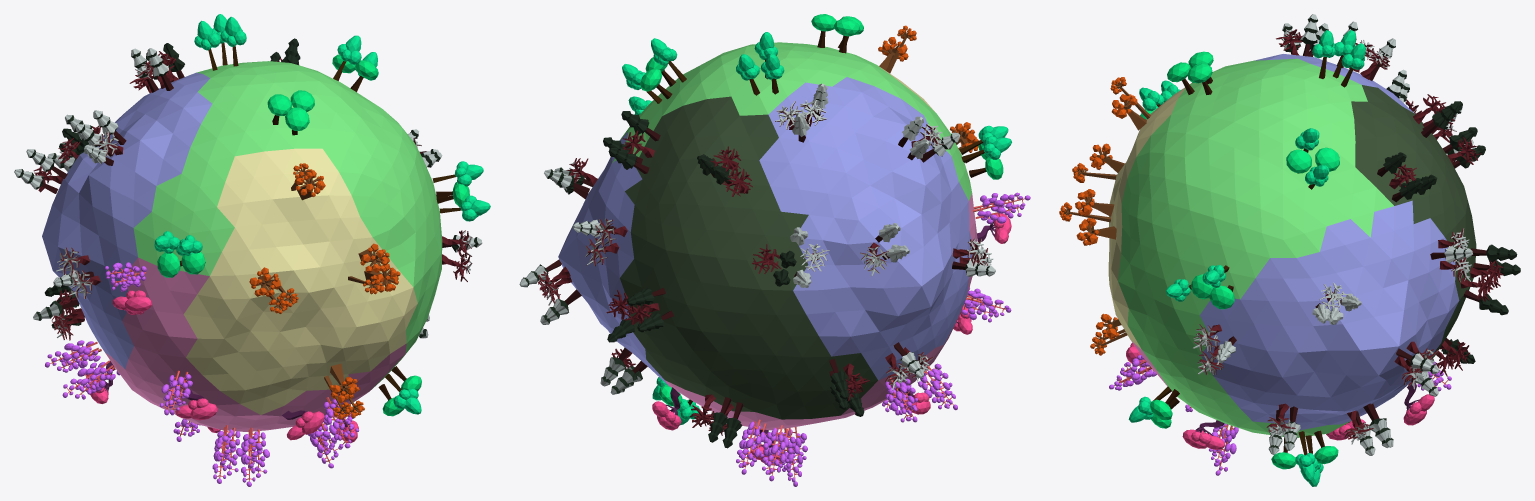
The model's file is planettest2.fbx.
The picture shows the model from 3 angles, left to right: view 1: azimuth 30°, elevation 25°; view 2: azimuth 150°, elevation 25°; view 3: azimuth 270°, elevation 25°; orthographic projection. The views are drawn at different scales.
Parts seen in each view (by area): view 1: Planet, Tree8.010, Tree8.009, Tree8.003, Tree8.004, Tree8.001, Tree7.007, Tree8.008, Tree8.002, Tree7.005, Tree8.011, Tree7.004 (+11 smaller); view 2: Planet, Tree8.002, Tree8.007, Tree8.006, Tree8.003, Tree8.004, Tree8.001, Tree8.005, Tree7.003, Cube.184, Cube.189, Tree7.004 (+1 smaller); view 3: Planet, Tree8.008, Tree7.001, Tree8.011, Tree7.003, Tree2.002, Tree2.005, Tree2.003, Cube.187, Cube.193, Cube.185, Tree2.004 (+6 smaller).
Boxes of the visible parts, left/top/right/bottom form: Planet: left=42, top=61, right=442, bottom=431; Tree8.010: left=212, top=425, right=242, bottom=483; Tree8.009: left=241, top=427, right=269, bottom=486; Tree8.003: left=62, top=360, right=115, bottom=399; Tree8.004: left=45, top=340, right=101, bottom=372; Tree8.001: left=160, top=370, right=192, bottom=415; Tree7.007: left=282, top=410, right=324, bottom=440; Tree8.008: left=323, top=397, right=359, bottom=448; Tree8.002: left=105, top=262, right=146, bottom=291; Tree7.005: left=175, top=390, right=217, bottom=420; Tree8.011: left=307, top=419, right=341, bottom=468; Tree7.004: left=112, top=290, right=152, bottom=314; Planet: left=558, top=42, right=977, bottom=430; Tree8.002: left=972, top=192, right=1030, bottom=223; Tree8.007: left=736, top=419, right=771, bottom=474; Tree8.006: left=762, top=425, right=795, bottom=481; Tree8.003: left=918, top=363, right=957, bottom=410; Tree8.004: left=885, top=377, right=917, bottom=422; Tree8.001: left=961, top=287, right=1011, bottom=322; Tree8.005: left=777, top=427, right=807, bottom=486; Tree7.003: left=652, top=387, right=681, bottom=430; Cube.184: left=961, top=136, right=1011, bottom=162; Cube.189: left=651, top=38, right=686, bottom=82; Tree7.004: left=977, top=213, right=1011, bottom=243; Planet: left=1108, top=54, right=1476, bottom=437; Tree8.008: left=1109, top=355, right=1156, bottom=390; Tree7.001: left=1182, top=420, right=1224, bottom=449; Tree8.011: left=1209, top=423, right=1238, bottom=475; Tree7.003: left=1403, top=383, right=1434, bottom=425; Tree2.002: left=1076, top=217, right=1116, bottom=245; Tree2.005: left=1111, top=94, right=1146, bottom=130; Tree2.003: left=1075, top=189, right=1114, bottom=216; Cube.187: left=1312, top=30, right=1335, bottom=78; Cube.193: left=1295, top=431, right=1318, bottom=481; Cube.185: left=1341, top=43, right=1365, bottom=87; Tree2.004: left=1089, top=143, right=1124, bottom=172.
Size of the model in its own units: 1512 by 1495 by 1474.
